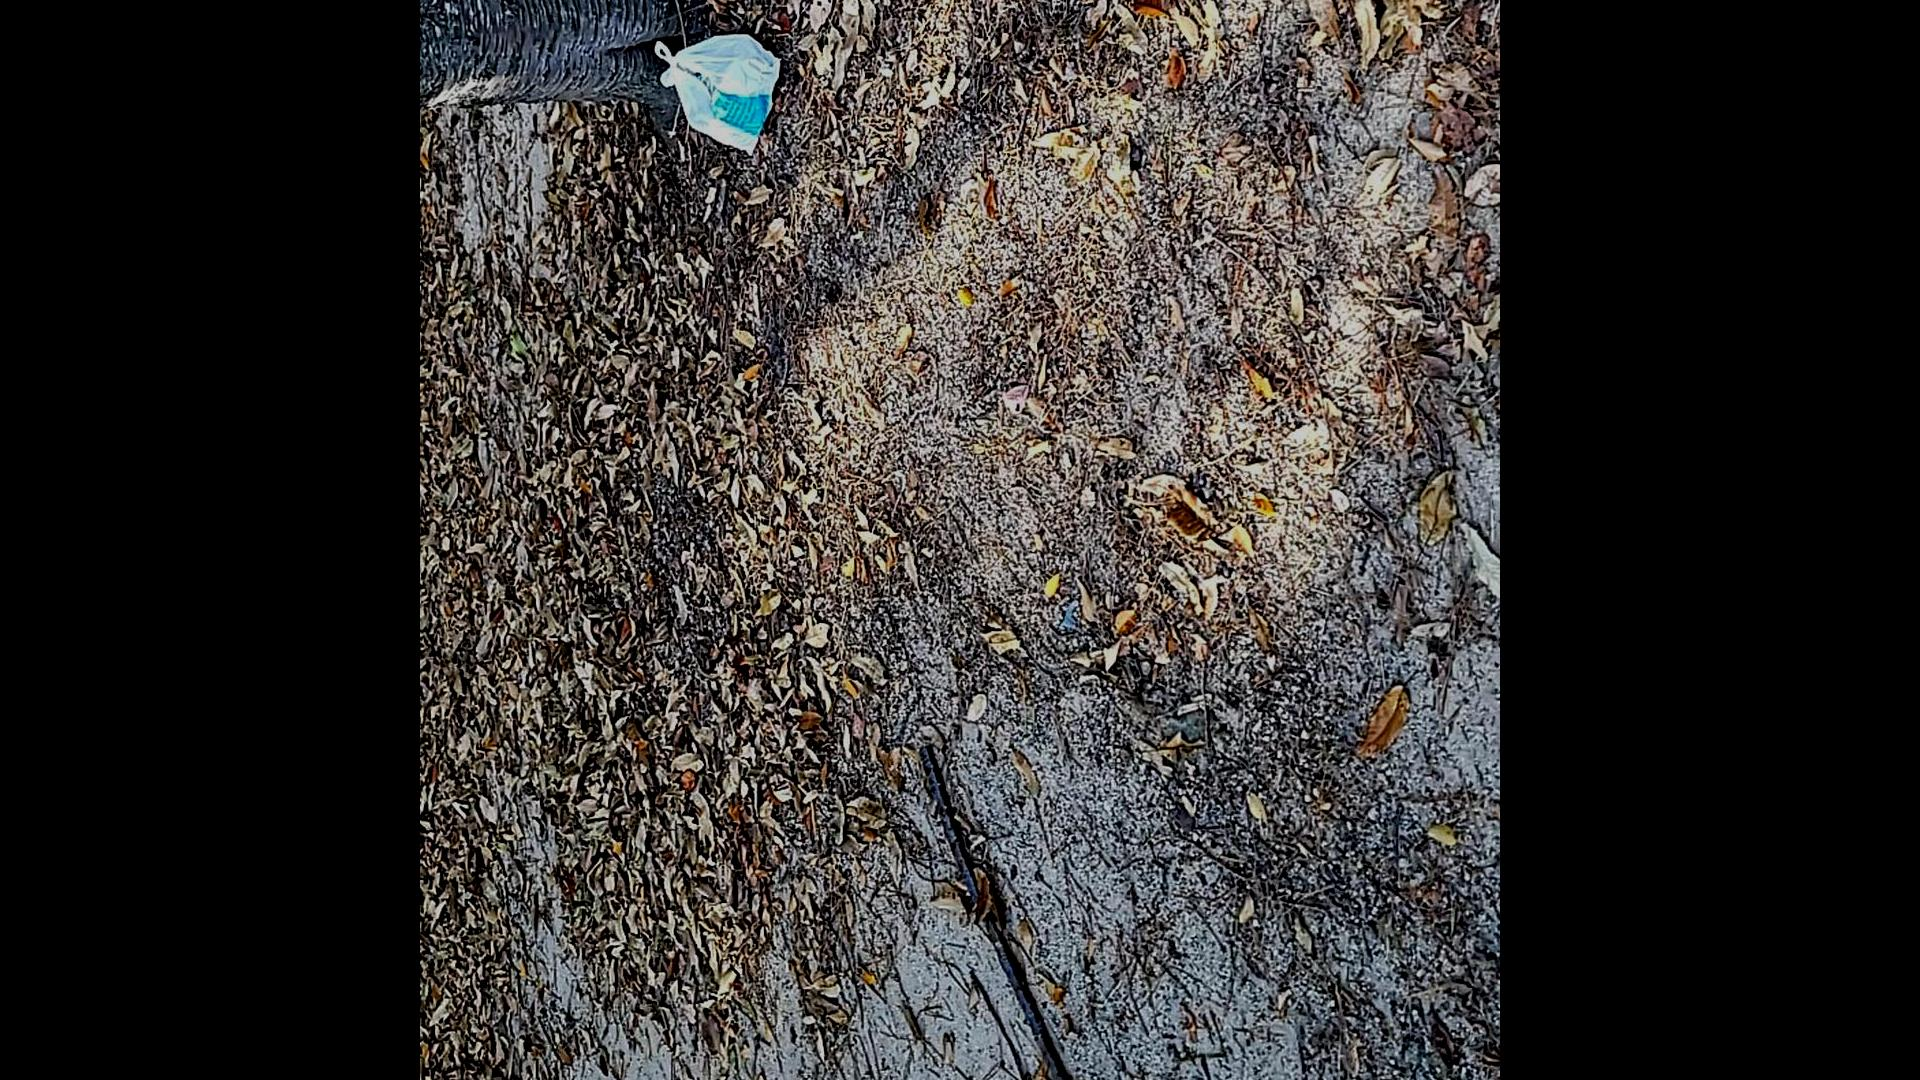white_bag: (644, 17, 796, 166)
